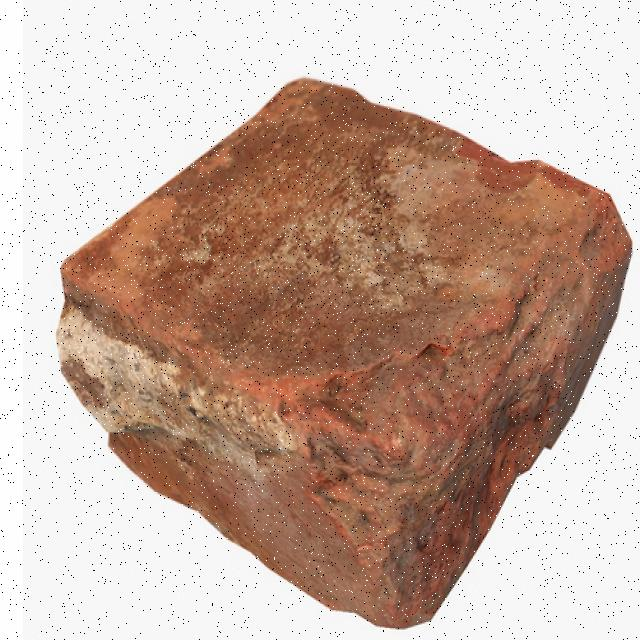bricks_ruin: (52, 77, 632, 630)
